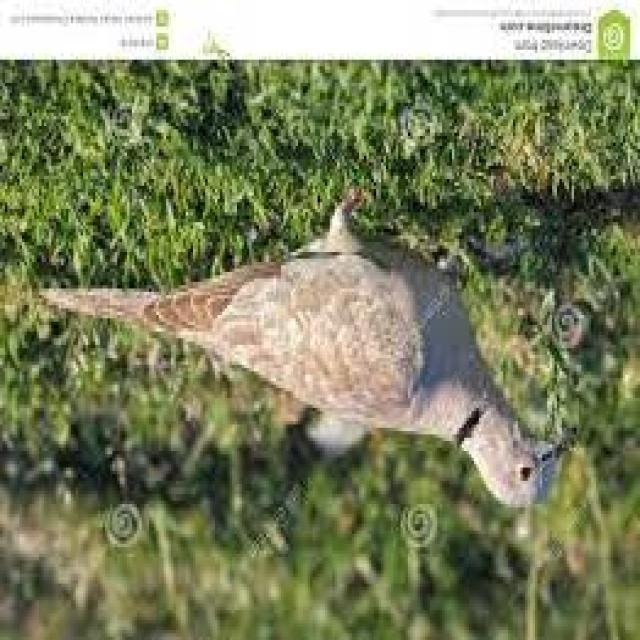pigeon: (34, 198, 568, 518)
